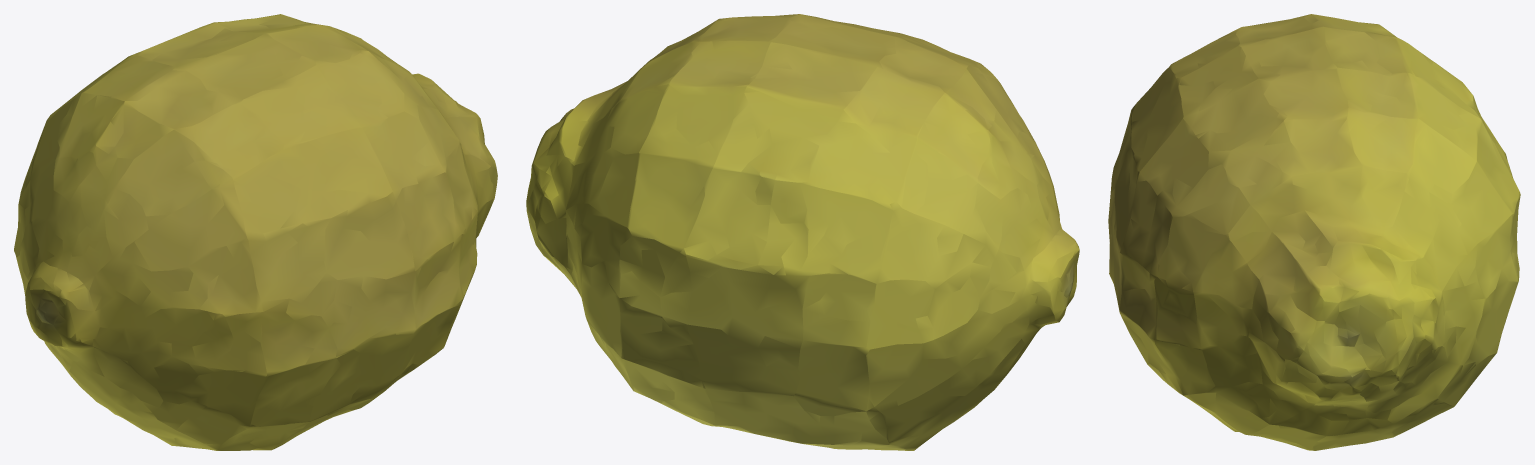
Rendered from 0002_mask_003_yellow_lemon.glb.
The picture shows the model from 3 angles, left to right: view 1: azimuth 30°, elevation 25°; view 2: azimuth 150°, elevation 25°; view 3: azimuth 270°, elevation 25°; orthographic projection. The views are drawn at different scales.
Visible parts, largest first — view 1: mask_003_object; view 2: mask_003_object; view 3: mask_003_object.
Part boxes in pixels (left/top/right/bottom): mask_003_object: left=14, top=14, right=497, bottom=450; mask_003_object: left=526, top=14, right=1079, bottom=450; mask_003_object: left=1108, top=14, right=1520, bottom=450.
Bounding box in the file's own units: 0.1206 × 0.0902 × 0.0924.
